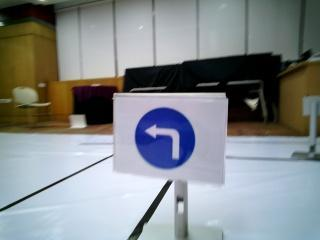left: (120, 99, 208, 172)
